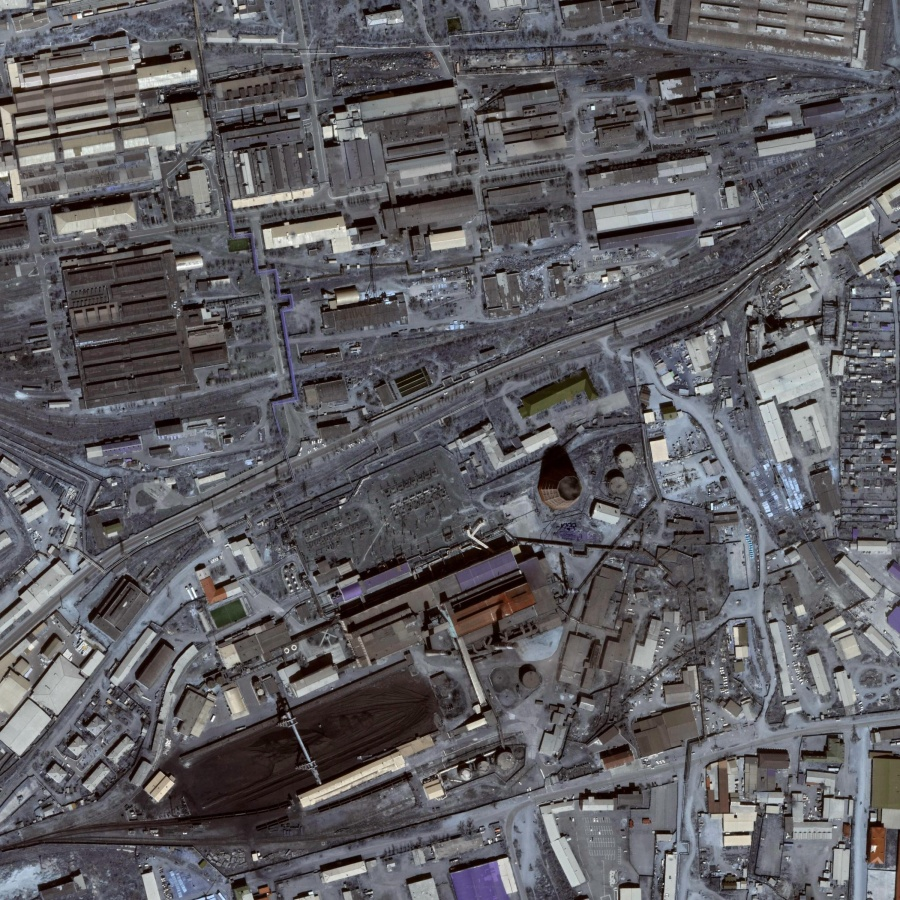PowerPlant: (164, 444, 645, 826)
